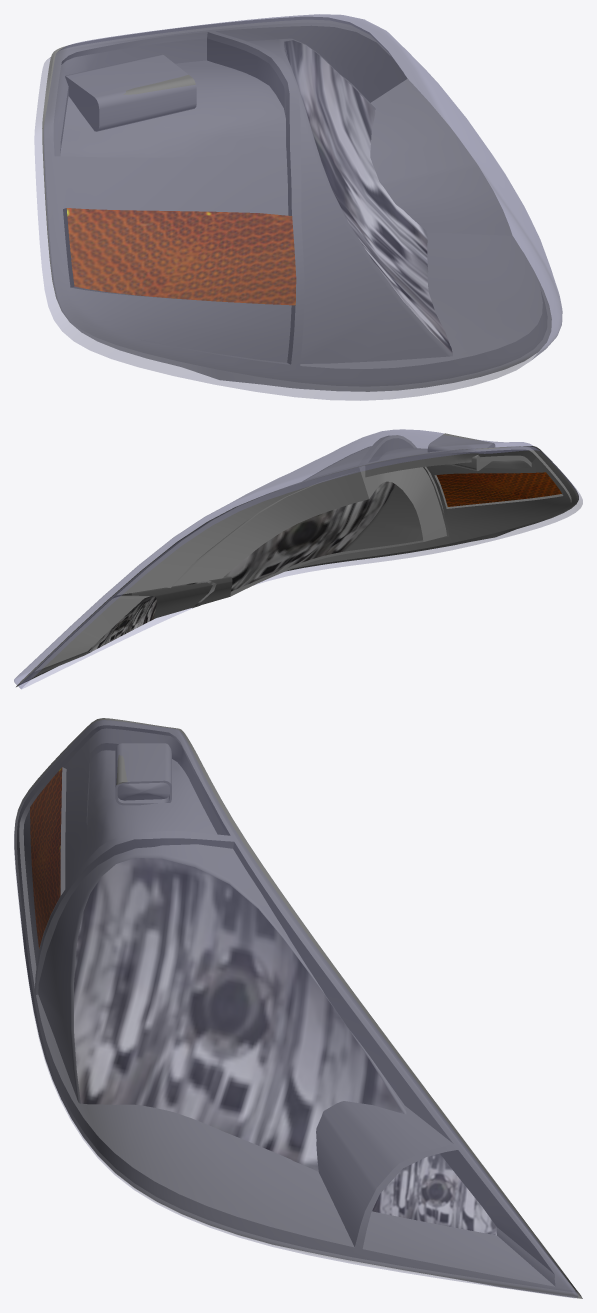
3 renders of one model, top to bottom at view 1: azimuth 30°, elevation 25°; view 2: azimuth 150°, elevation 25°; view 3: azimuth 270°, elevation 25°, orthographic. The views are drawn at different scales.
Visible parts, largest first — view 1: Z020_061B_R_Z020_061B_R_6_DTaSI, Z020_061B_R_Z020_061B_R_2_DaS, Z020_061B_R_Z020_061B_R_3_N, Z020_061B_R_1_N_Z020_061B_R; view 2: Z020_061B_R_Z020_061B_R_2_DaS, Z020_061B_R_Z020_061B_R_6_DTaSI, Z020_061B_R_1_N_Z020_061B_R, Z020_061B_R_Z020_061B_R_3_N, Z020_061B_R_Z020_061B_R_4_N; view 3: Z020_061B_R_Z020_061B_R_6_DTaSI, Z020_061B_R_Z020_061B_R_2_DaS, Z020_061B_R_1_N_Z020_061B_R, Z020_061B_R_Z020_061B_R_4_N, Z020_061B_R_Z020_061B_R_3_N.
Boxes of the visible parts, x1,y1,x2,y2 form: Z020_061B_R_Z020_061B_R_6_DTaSI: [34, 14, 562, 400]; Z020_061B_R_Z020_061B_R_2_DaS: [42, 17, 551, 391]; Z020_061B_R_Z020_061B_R_3_N: [66, 208, 296, 305]; Z020_061B_R_1_N_Z020_061B_R: [284, 40, 452, 353]; Z020_061B_R_Z020_061B_R_2_DaS: [16, 433, 578, 686]; Z020_061B_R_Z020_061B_R_6_DTaSI: [14, 429, 582, 689]; Z020_061B_R_1_N_Z020_061B_R: [172, 481, 395, 608]; Z020_061B_R_Z020_061B_R_3_N: [436, 472, 561, 506]; Z020_061B_R_Z020_061B_R_4_N: [86, 596, 156, 654]; Z020_061B_R_Z020_061B_R_6_DTaSI: [14, 720, 577, 1297]; Z020_061B_R_Z020_061B_R_2_DaS: [14, 718, 582, 1298]; Z020_061B_R_1_N_Z020_061B_R: [74, 858, 402, 1171]; Z020_061B_R_Z020_061B_R_4_N: [372, 1153, 496, 1235]; Z020_061B_R_Z020_061B_R_3_N: [30, 767, 62, 948].
Size of the model in its own units: 58.95 by 32.78 by 50.19.
